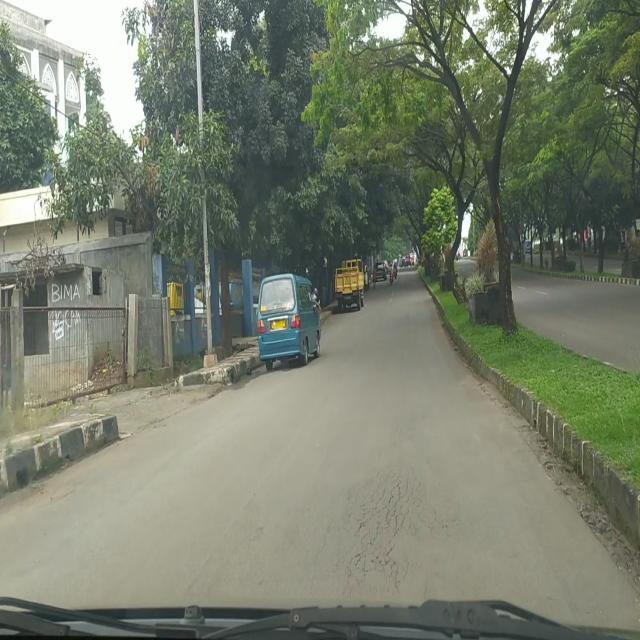Drain Hole: (342, 462, 428, 595)
